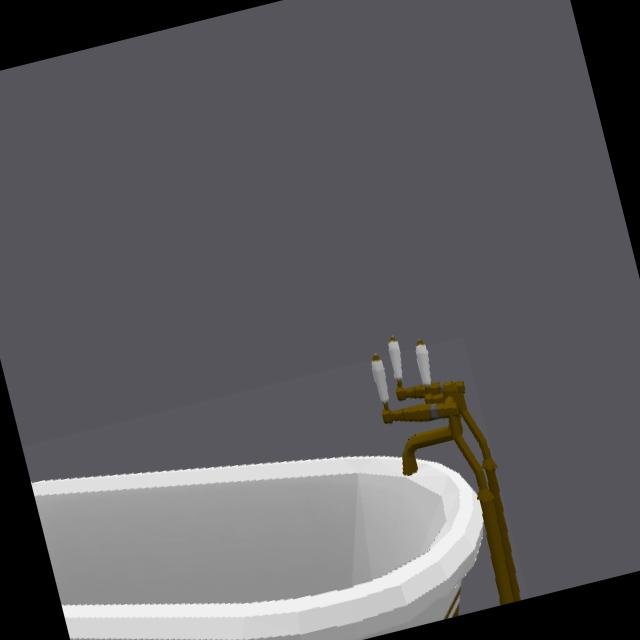bathtube: (32, 356, 519, 640)
